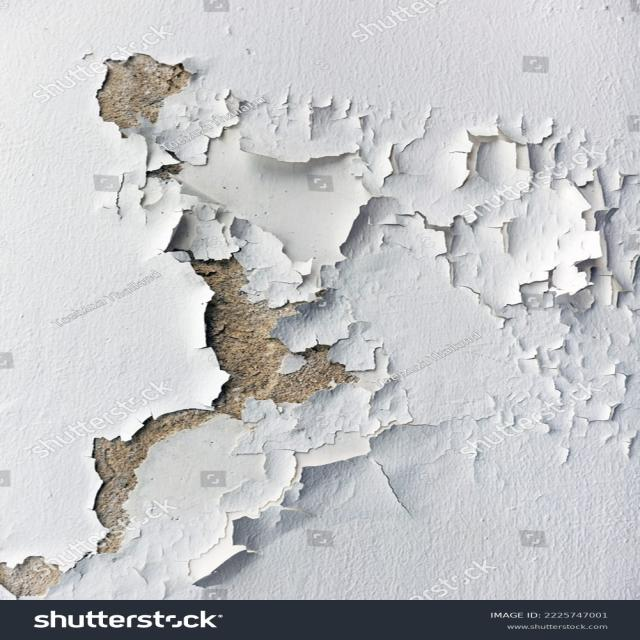paint-peeling: (166, 89, 380, 304), (182, 422, 439, 581), (502, 165, 628, 313), (453, 118, 553, 203)
